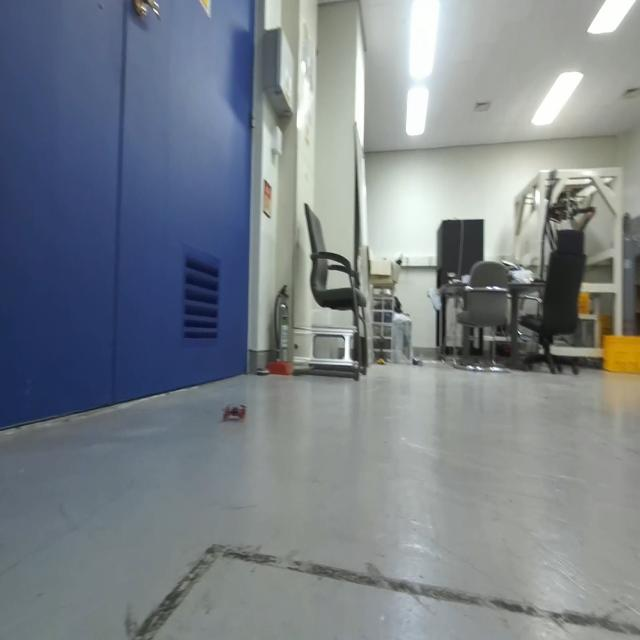crazyflie: (219, 394, 249, 428)
